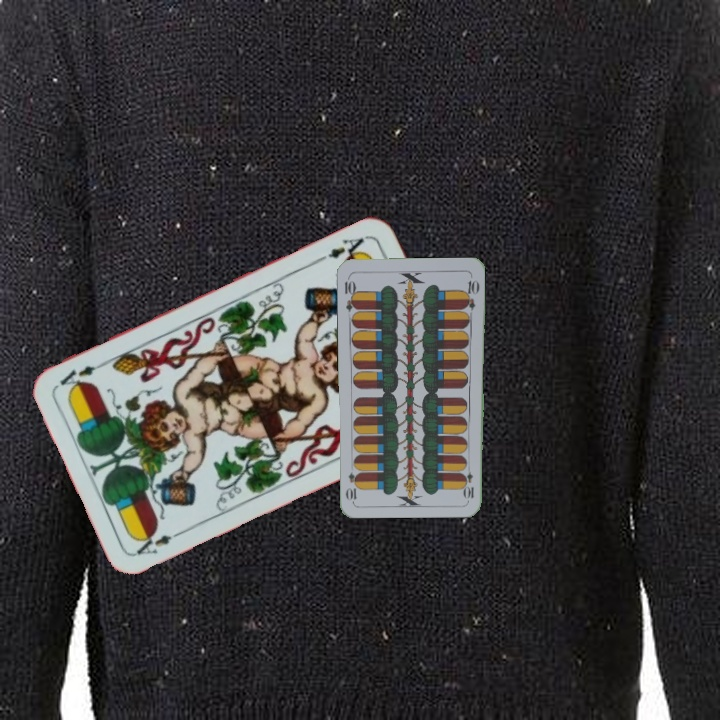E10: (341, 273, 360, 313), (462, 461, 476, 501)
EA: (132, 526, 187, 558), (324, 231, 371, 265)
